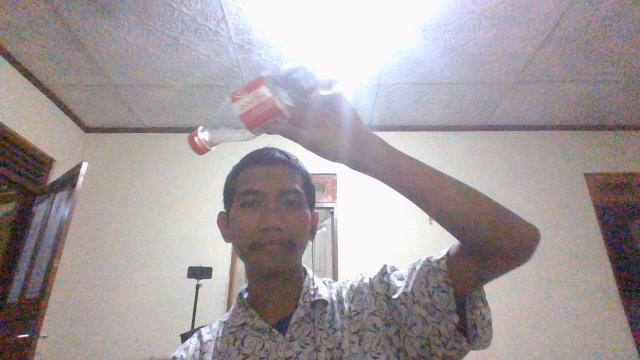coca-cola: (184, 42, 346, 163)
